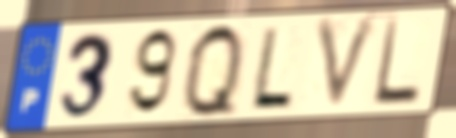3: (56, 29, 121, 125)
9: (123, 27, 179, 120)
L: (370, 17, 423, 109), (246, 24, 297, 110)
Q: (181, 19, 246, 121)
V: (313, 13, 383, 116)
